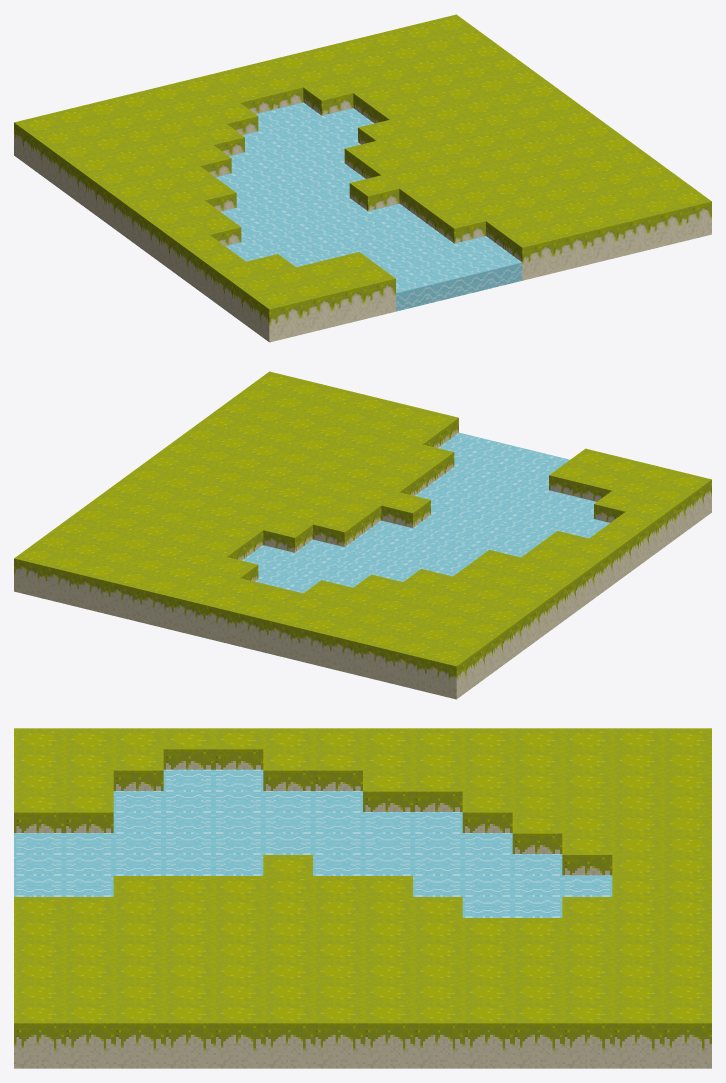
The picture shows the model from 3 angles, top to bottom: view 1: azimuth 30°, elevation 25°; view 2: azimuth 150°, elevation 25°; view 3: azimuth 270°, elevation 25°; orthographic projection. The views are drawn at different scales.
Parts seen in each view (by area): view 1: Ground_Grass_D__2__1__42__1; view 2: Ground_Grass_D__2__1__42__1; view 3: Ground_Grass_D__2__1__42__1.
Part boxes in pixels (box(x1,y1,x2,y2)): Ground_Grass_D__2__1__42__1: box(14, 14, 711, 342); Ground_Grass_D__2__1__42__1: box(14, 371, 711, 699); Ground_Grass_D__2__1__42__1: box(14, 728, 711, 1068).
Bounding box in the file's own units: 8400 × 600 × 8400.
2 materials, 2 textured.
